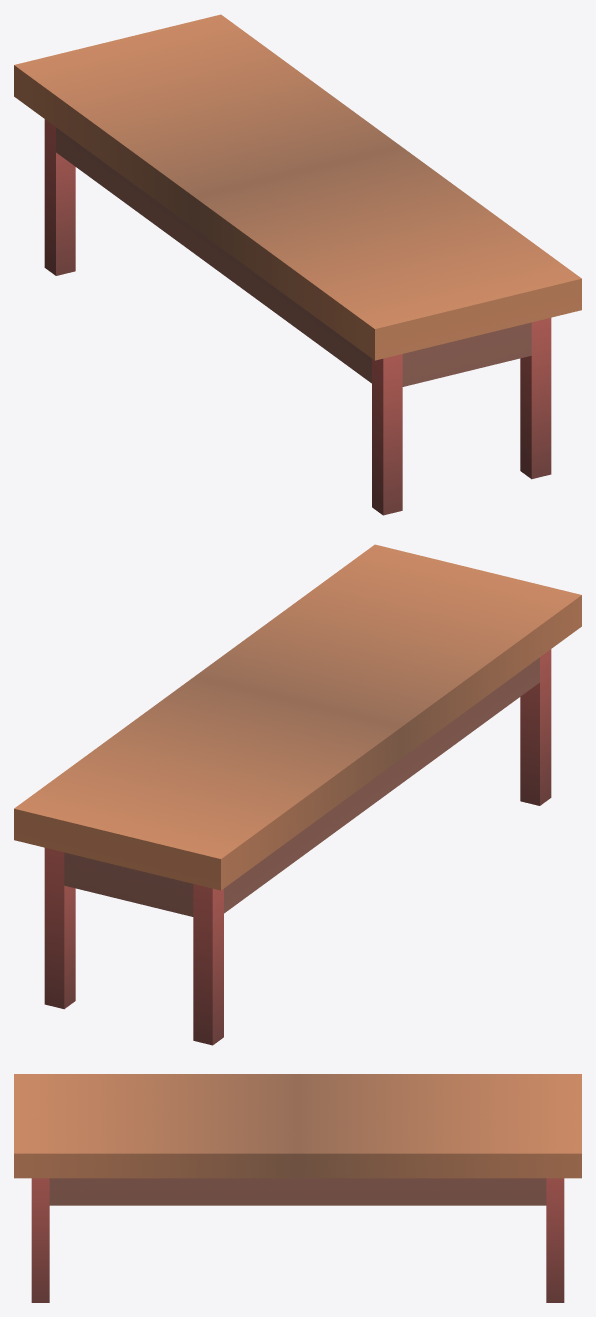
The model's file is PROP_table.fbx.
3 renders of one model, top to bottom at view 1: azimuth 30°, elevation 25°; view 2: azimuth 150°, elevation 25°; view 3: azimuth 270°, elevation 25°, orthographic. The views are drawn at different scales.
Parts seen in each view (by area): view 1: PROP_table; view 2: PROP_table; view 3: PROP_table.
Boxes of the visible parts, x1,y1,x2,y2 form: PROP_table: (14,14,581,515); PROP_table: (14,544,581,1045); PROP_table: (14,1074,581,1302).
Bounding box in the file's own units: 66.25 × 60.95 × 200.
